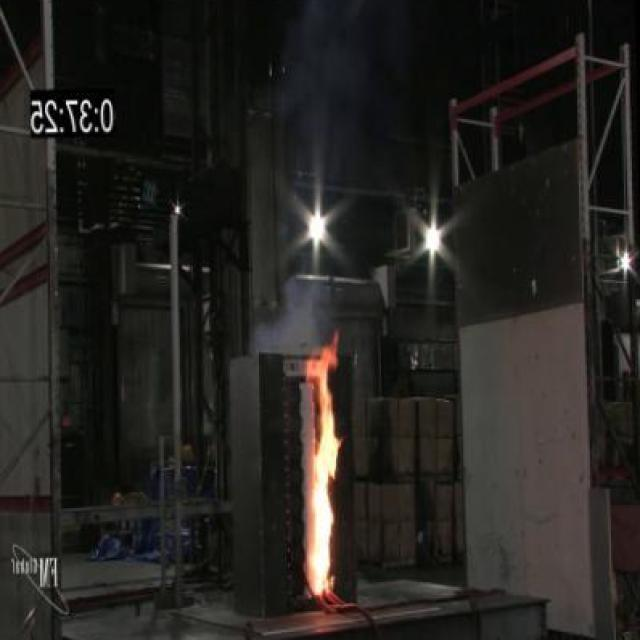fire: (244, 276, 346, 354)
smoke: (292, 324, 350, 601)
